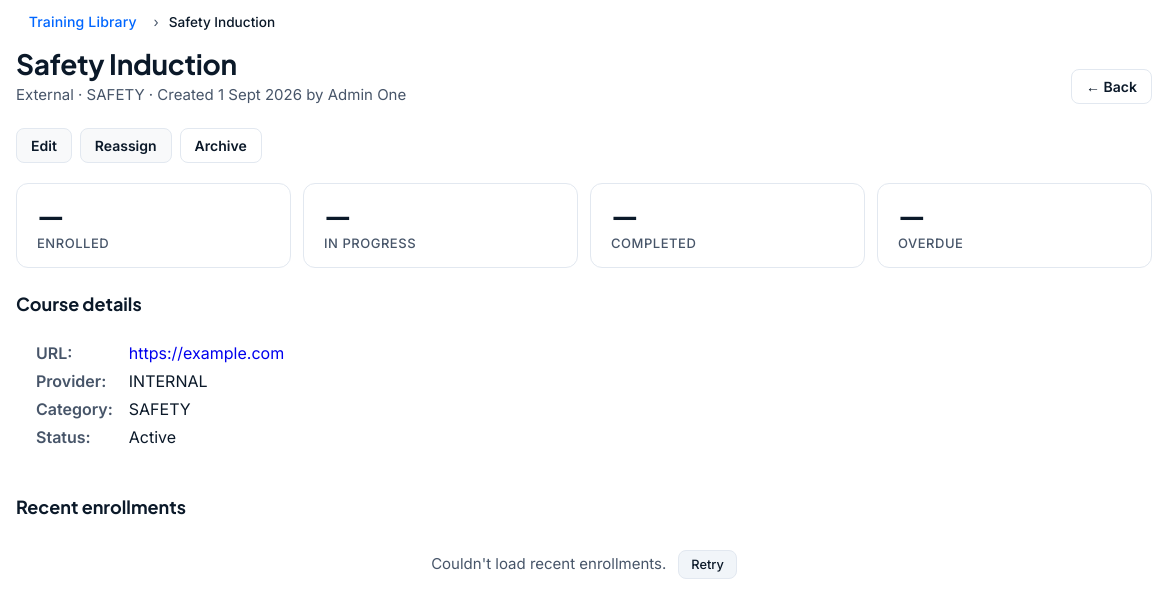
DR-008 — TrainingCourseDetail real-mount coverage › B4. recovered enrollment fetch clears the error arm and renders the list
The width and height of the screenshot is (1169, 596).
Click the button "Retry": (708, 564) [678,550,737,579]
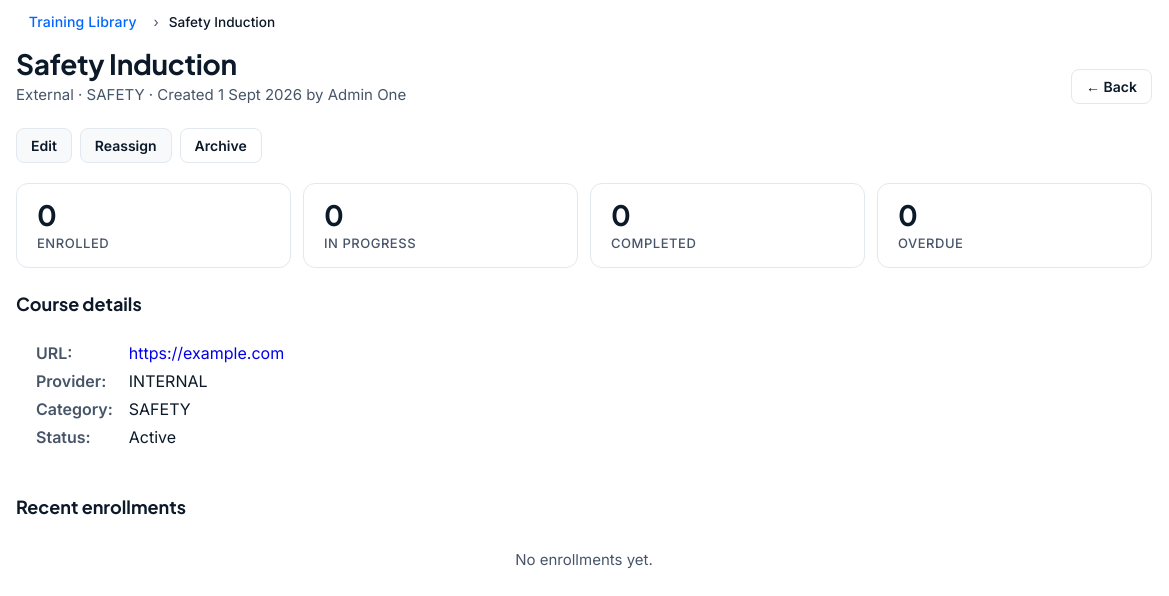
Result: the button "Retry" is gone
Result: the text "No enrollments yet." is shown at [515,550,653,569]
Result: the text "—" is gone
